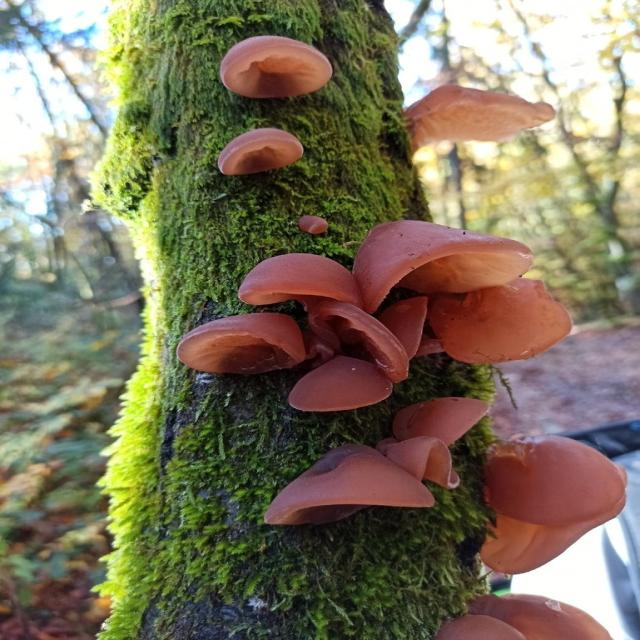Fase Muda: (394, 83, 568, 156), (213, 29, 334, 102), (214, 124, 317, 184)
Matang: (465, 433, 634, 569), (263, 432, 442, 537), (352, 218, 544, 309), (427, 275, 591, 363), (431, 590, 621, 640), (176, 307, 307, 376), (312, 296, 410, 383), (240, 248, 365, 312), (379, 426, 472, 499), (388, 391, 493, 444), (287, 364, 391, 415), (380, 283, 439, 363)
primordia: (294, 206, 340, 238)
